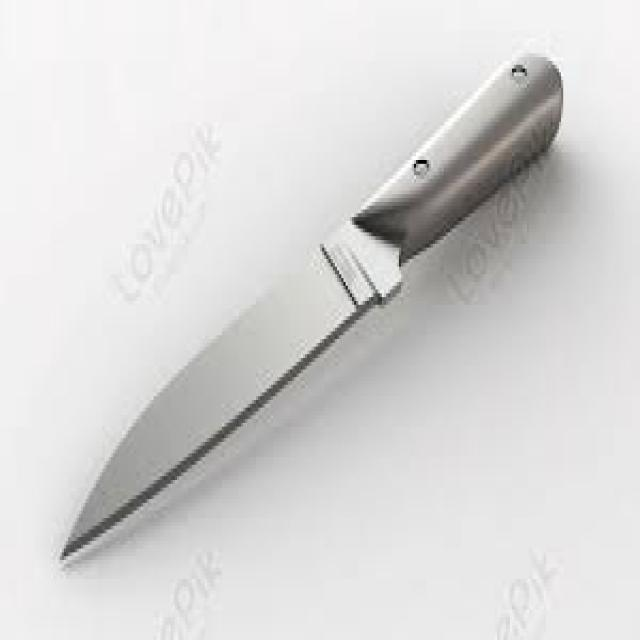Knife: (58, 46, 563, 560)
